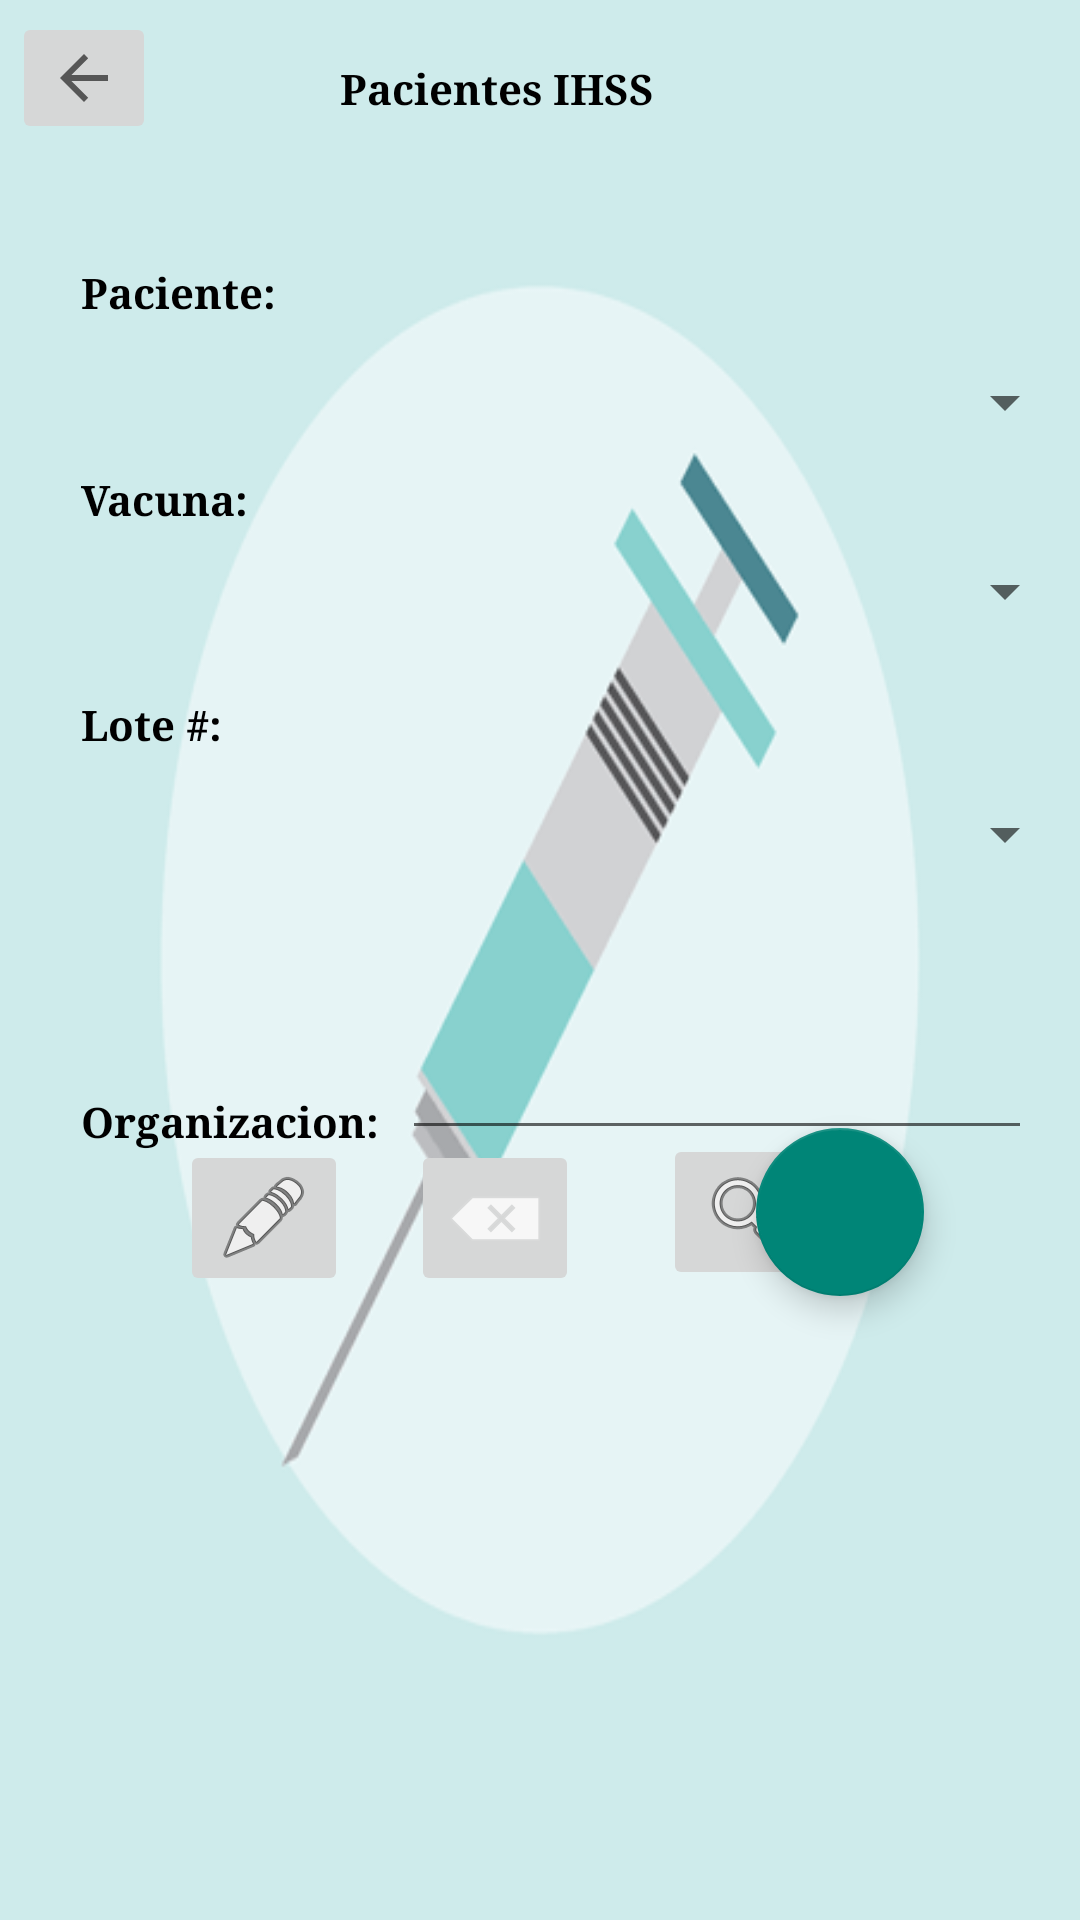

Screen size 1080 × 1920. Icon name, then its box in pixels as bbox=(x1, y1, x2, y2):
delete: bbox=(411, 1140, 567, 1278)
edit: bbox=(180, 1158, 336, 1296)
